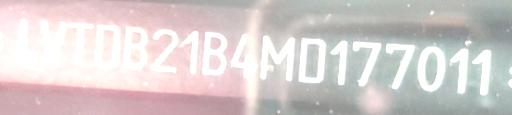letter: (258, 34, 296, 83), (350, 39, 382, 88), (383, 41, 415, 90), (297, 35, 327, 84), (417, 45, 447, 92), (228, 32, 258, 79), (200, 29, 228, 78), (149, 28, 179, 73), (40, 19, 68, 66), (93, 22, 121, 69), (122, 25, 150, 72), (68, 21, 94, 66), (328, 39, 348, 88), (450, 45, 470, 94), (471, 47, 491, 96), (18, 17, 38, 62), (182, 29, 198, 74)
